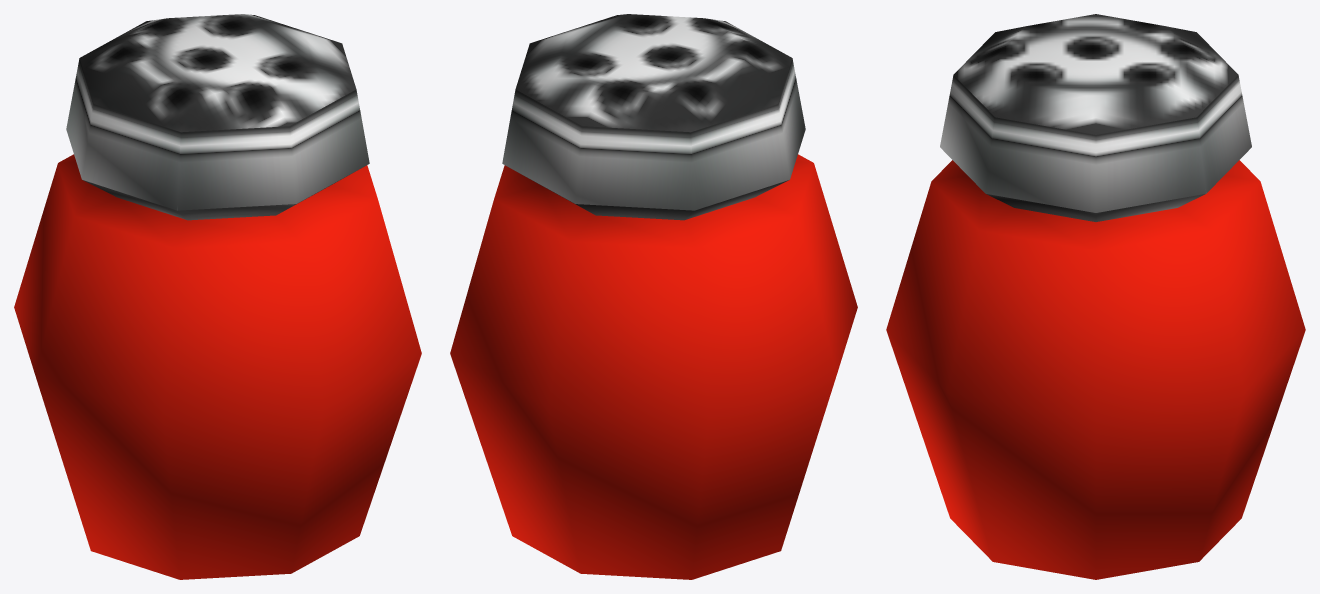
Rendered from Shaker_A.FBX.
The picture shows the model from 3 angles, left to right: view 1: azimuth 30°, elevation 25°; view 2: azimuth 150°, elevation 25°; view 3: azimuth 270°, elevation 25°; orthographic projection.
Visible parts, largest first — view 1: Shaker; view 2: Shaker; view 3: Shaker.
Part boxes in pixels (x1,y1,x2,y2): Shaker: (14, 14, 421, 579); Shaker: (450, 14, 857, 579); Shaker: (886, 14, 1305, 579).
Bounding box in the file's own units: 22.58 × 27.47 × 22.58.
